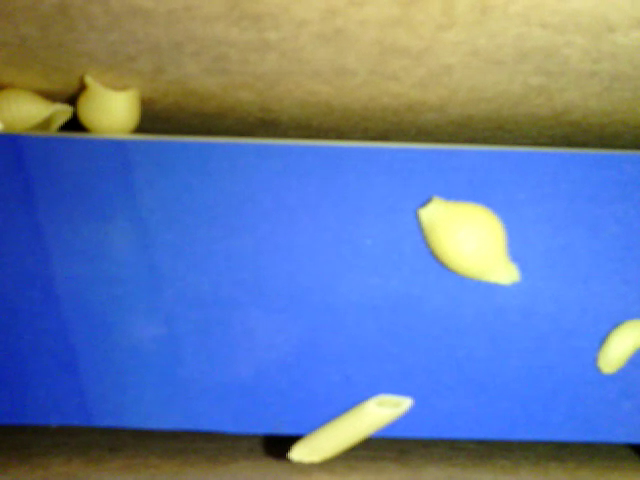elbow: (590, 315, 639, 374)
penne: (289, 394, 415, 460)
shell: (412, 195, 522, 290), (76, 75, 146, 132), (1, 89, 75, 133)
